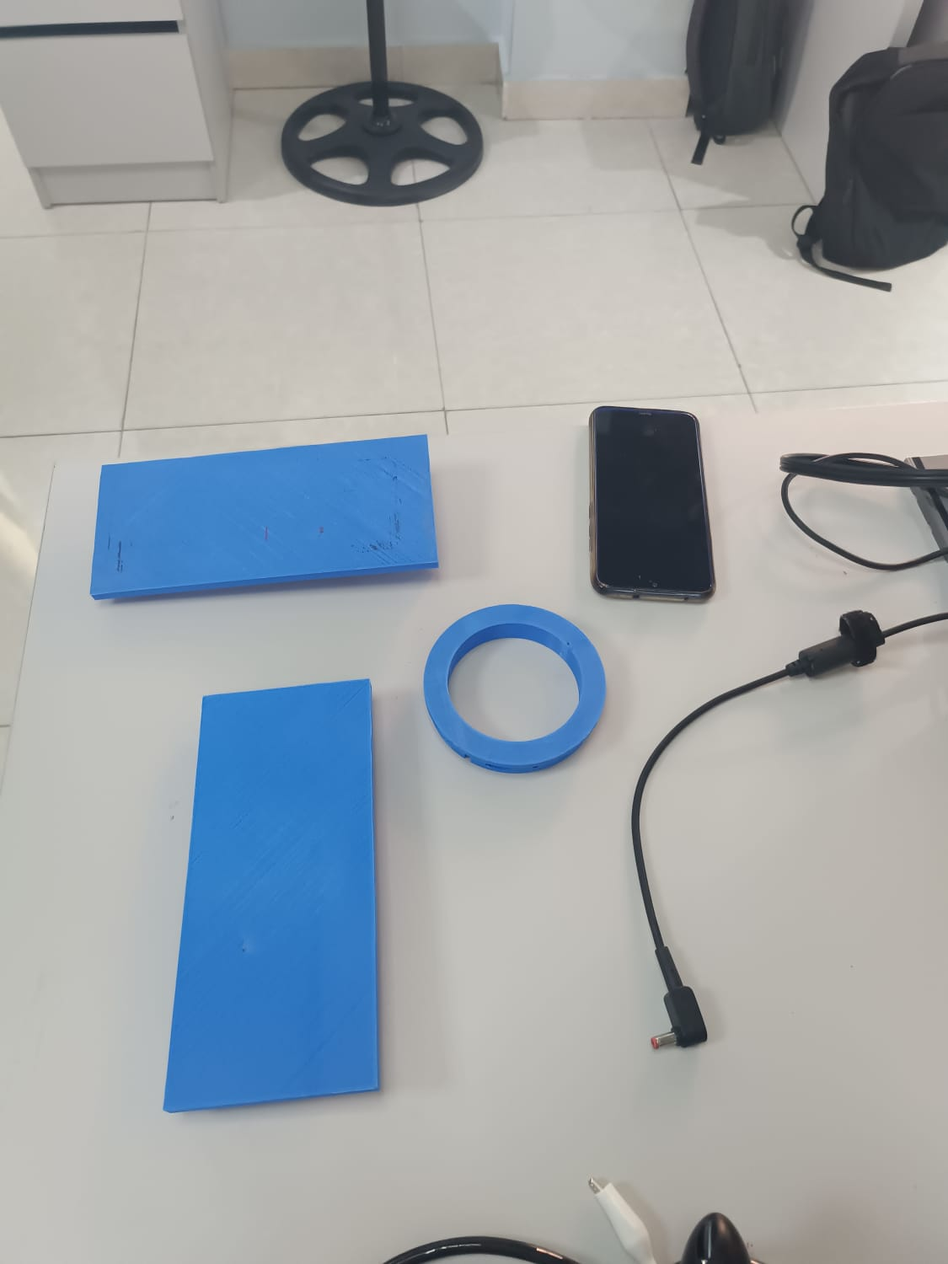Circle: (419, 602, 613, 776)
Rectangular: (155, 674, 389, 1120), (81, 428, 449, 595)
